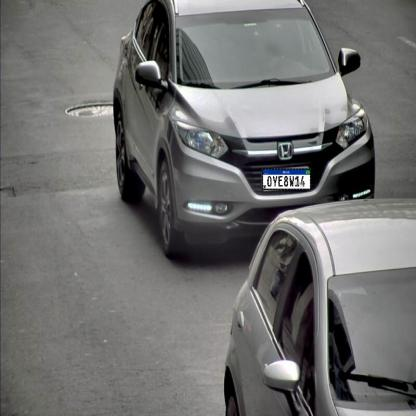PlacaM: (262, 168, 311, 190)
